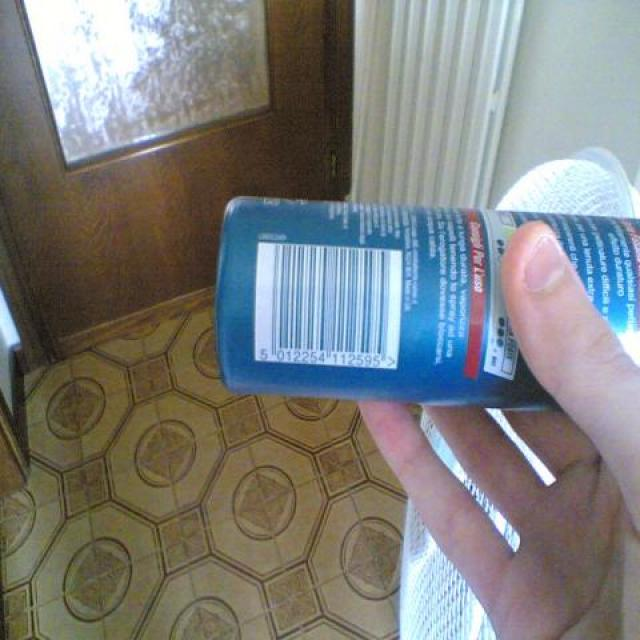Barcode: (252, 237, 404, 371)
